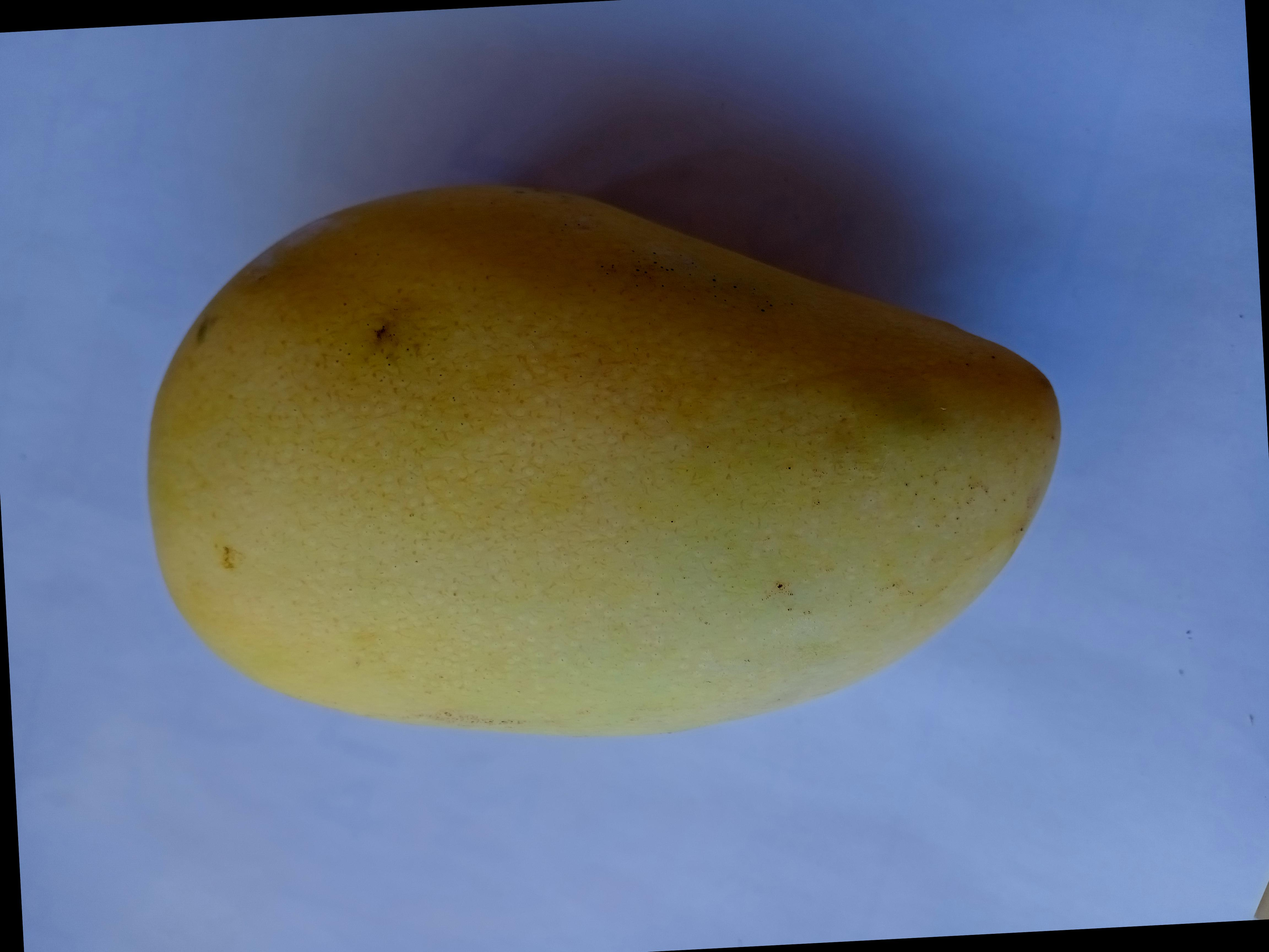Mango Ripe: (73, 134, 1087, 845)
